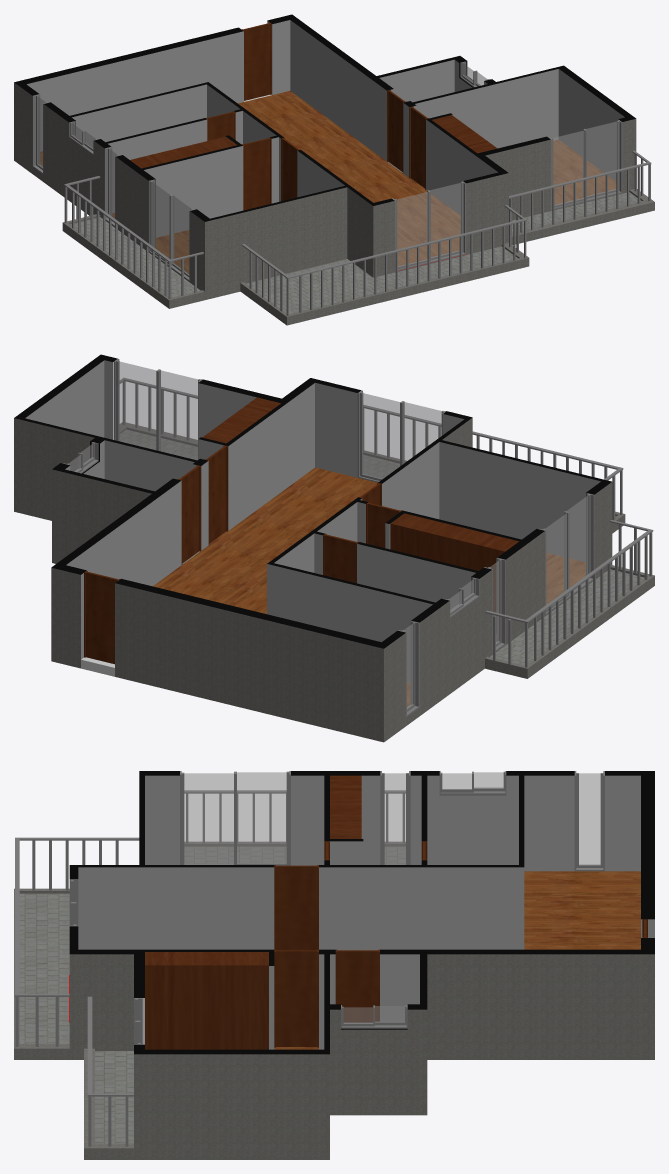
File: modelo2.glb
3 views of the same model, one above another, from view 1: azimuth 30°, elevation 25°; view 2: azimuth 150°, elevation 25°; view 3: azimuth 270°, elevation 25° (orthographic). The views are drawn at different scales.
Visible parts, largest first — view 1: 29148, 29739, m (×6), 32189 (×3), 32188 (×3), 31926 (×2), 35080, 33839, 32187 (×2), 35109, 33804, 33143 (+2 smaller); view 2: 29148, 29739, 32188 (×3), m (×5), 32189 (×3), 35080, 31926 (×2), 35109, 33804, 33839, 31994, 31656 (+1 smaller); view 3: 29148, 35109, m (×3), 29739, 32188, 32189, 31994, 31656, 35080, 33839, 32947 (×2), 32948 (×2) (+2 smaller).
Part boxes in pixels (bbox=[...]): 29148: bbox=[14, 14, 654, 325]; 29739: bbox=[40, 91, 616, 273]; m (×6): bbox=[206, 22, 428, 210]; 32189 (×3): bbox=[150, 129, 586, 269]; 32188 (×3): bbox=[172, 120, 619, 277]; 31926 (×2): bbox=[32, 94, 122, 226]; 35080: bbox=[130, 136, 237, 168]; 33839: bbox=[241, 205, 526, 278]; 32187 (×2): bbox=[148, 120, 622, 281]; 35109: bbox=[432, 115, 497, 153]; 33804: bbox=[64, 176, 203, 262]; 33143: bbox=[509, 150, 651, 198]; 29148: bbox=[14, 354, 654, 742]; 29739: bbox=[81, 467, 585, 706]; 32188 (×3): bbox=[116, 360, 590, 592]; m (×5): bbox=[84, 445, 402, 664]; 32189 (×3): bbox=[158, 369, 569, 612]; 35080: bbox=[390, 513, 518, 633]; 31926 (×2): bbox=[398, 557, 505, 716]; 35109: bbox=[202, 397, 280, 443]; 33804: bbox=[485, 520, 653, 623]; 33839: bbox=[363, 405, 623, 480]; 31994: bbox=[402, 622, 415, 711]; 31656: bbox=[488, 559, 501, 646]; 29148: bbox=[14, 771, 654, 1159]; 35109: bbox=[145, 952, 268, 1049]; m (×3): bbox=[274, 865, 379, 1047]; 29739: bbox=[274, 871, 640, 1049]; 32188: bbox=[181, 772, 236, 864]; 32189: bbox=[234, 771, 289, 865]; 31994: bbox=[576, 773, 603, 867]; 31656: bbox=[382, 773, 408, 864]; 35080: bbox=[330, 775, 361, 838]; 33839: bbox=[15, 837, 139, 996]; 32947 (×2): bbox=[342, 772, 473, 1026]; 32948 (×2): bbox=[373, 771, 505, 1025].
Bounding box in the file's own units: 1.31 × 0.21 × 1.15.
Materials: 930 (253 with a texture image).
